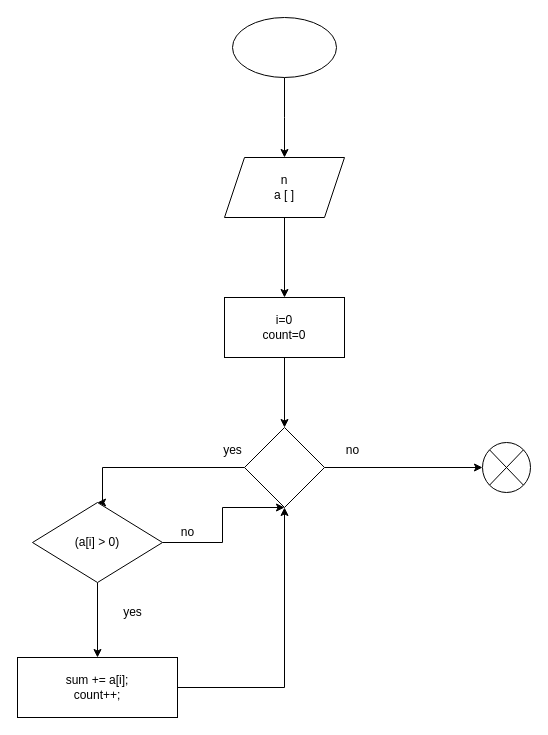
The diagram is 548 pixels wide and 735 high, and some of its shapes have lost their labels. The centre of each missing label's shape, as x and y in pixels:
"i<n" belongs at [284,467].
"start" belongs at [284,47].
